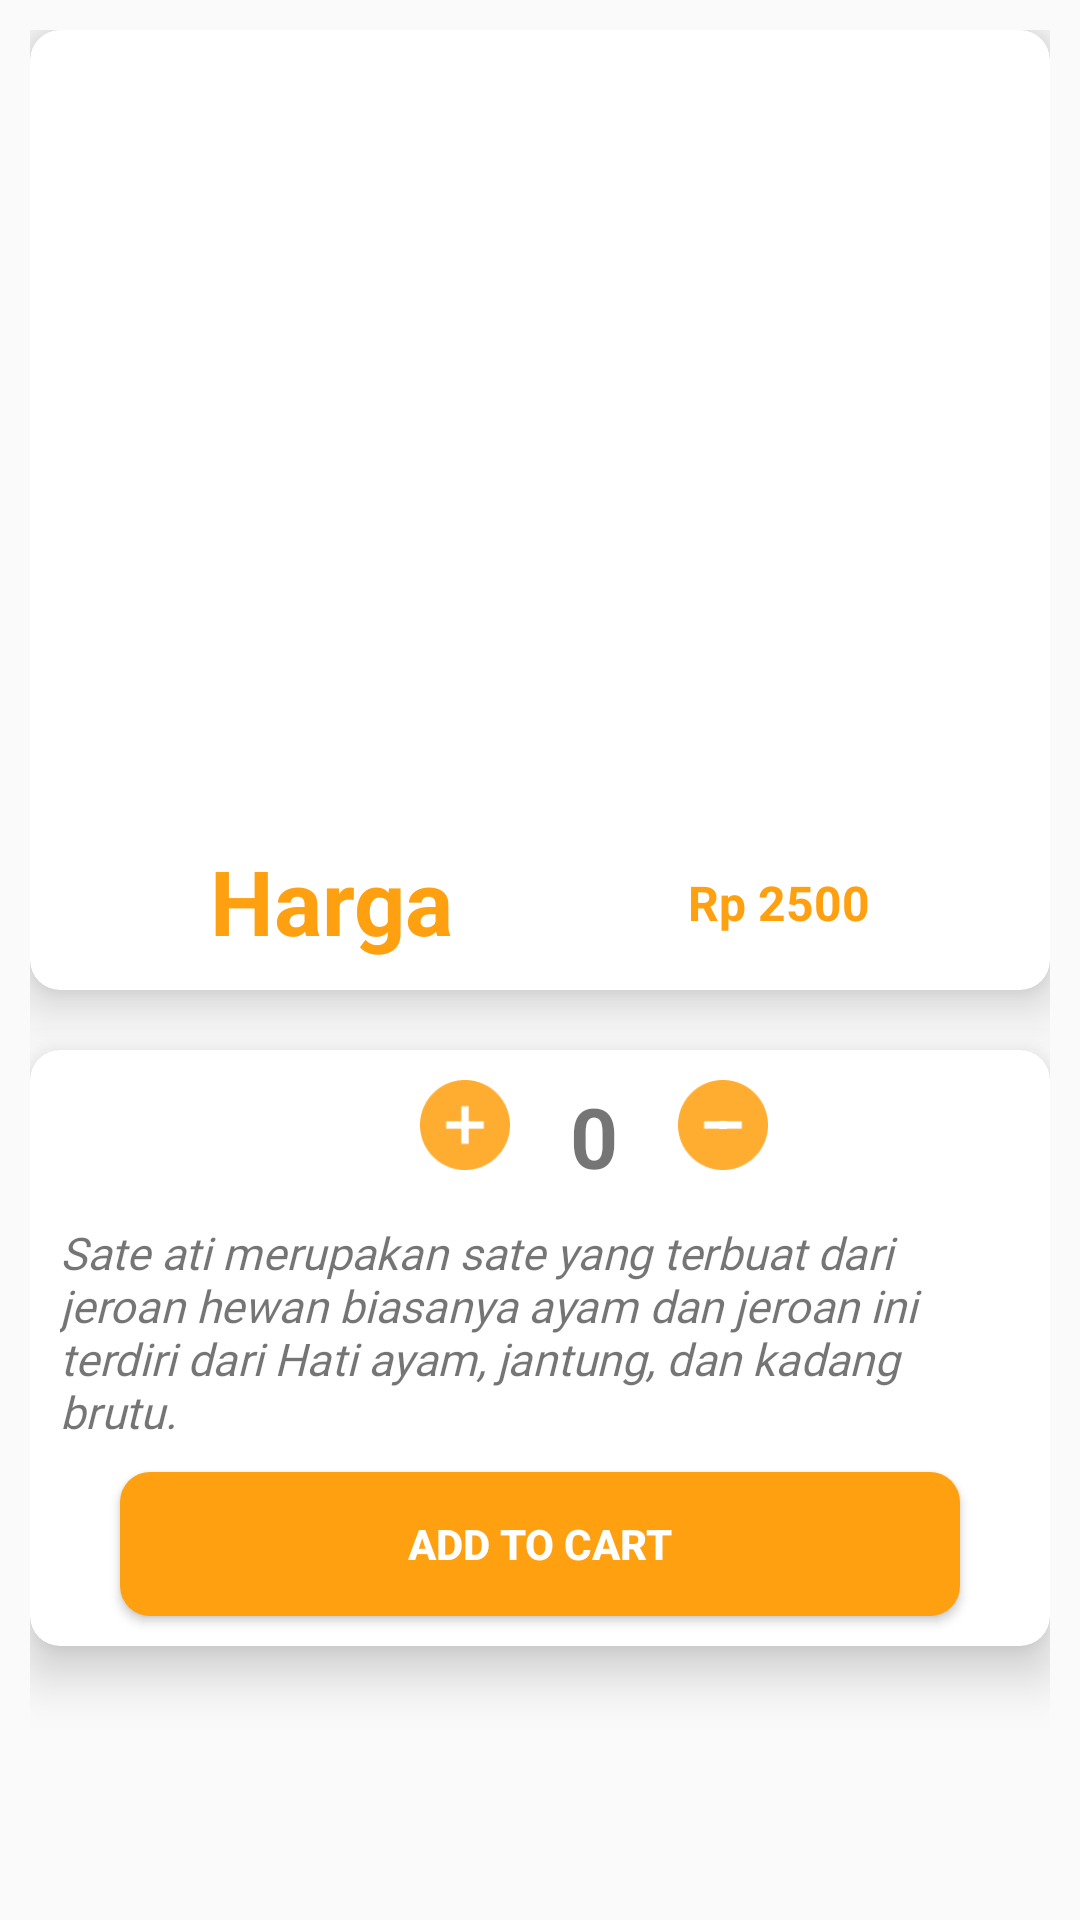

Screen size 1080*1920. Icon name, then its center in pixels as [x,y]:
minus: [723,1125]
plus: [465,1125]
